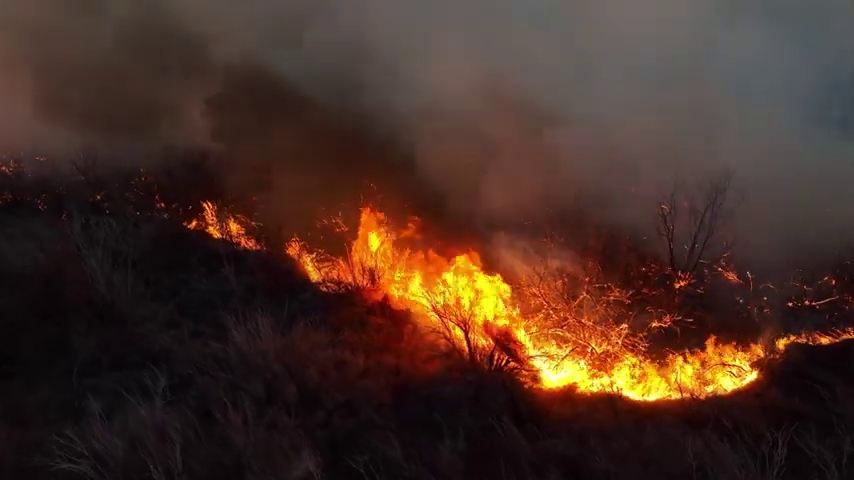forest_fire: (285, 207, 853, 399), (185, 201, 260, 249), (624, 333, 628, 338), (523, 297, 529, 300), (635, 333, 641, 335), (639, 341, 641, 344), (623, 332, 624, 333)
